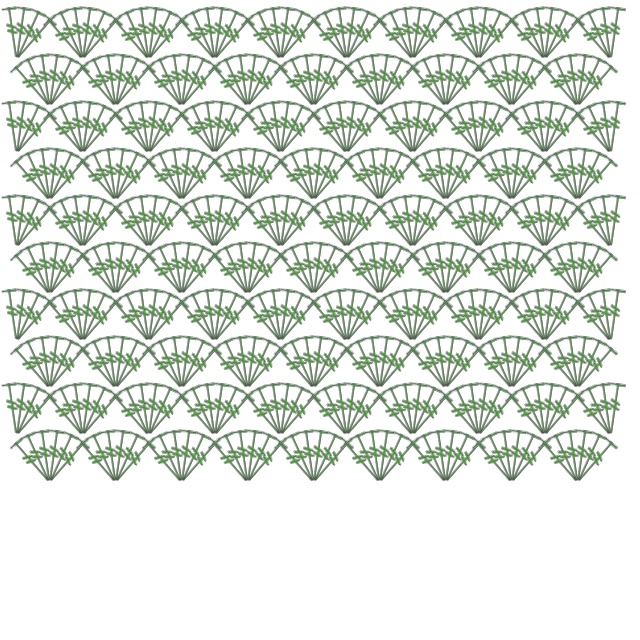fan: (10, 13, 59, 65), (41, 13, 90, 65), (76, 13, 125, 65), (107, 13, 156, 65), (142, 13, 191, 65), (173, 13, 222, 65), (208, 13, 257, 65), (239, 13, 288, 65), (274, 13, 323, 65), (305, 13, 354, 65), (340, 13, 389, 65), (371, 13, 420, 65), (406, 13, 455, 65), (437, 13, 486, 65), (472, 13, 521, 65), (503, 13, 552, 65), (538, 13, 587, 65), (569, 13, 618, 65), (8, 60, 57, 112), (43, 60, 92, 112), (74, 60, 123, 112), (109, 60, 158, 112), (140, 60, 189, 112), (175, 60, 224, 112), (206, 60, 255, 112), (241, 60, 290, 112), (272, 60, 321, 112), (307, 60, 356, 112), (338, 60, 387, 112), (373, 60, 422, 112), (404, 60, 453, 112), (439, 60, 488, 112), (470, 60, 519, 112), (505, 60, 554, 112), (536, 60, 585, 112), (571, 60, 620, 112), (10, 107, 59, 159), (41, 107, 90, 159), (76, 107, 125, 159), (107, 107, 156, 159), (142, 107, 191, 159), (173, 107, 222, 159), (208, 107, 257, 159), (239, 107, 288, 159), (274, 107, 323, 159), (305, 107, 354, 159), (340, 107, 389, 159), (371, 107, 420, 159), (406, 107, 455, 159), (437, 107, 486, 159), (472, 107, 521, 159), (503, 107, 552, 159), (538, 107, 587, 159), (569, 107, 618, 159), (8, 154, 57, 206), (43, 154, 92, 206), (74, 154, 123, 206), (109, 154, 158, 206), (140, 154, 189, 206), (175, 154, 224, 206), (206, 154, 255, 206), (241, 154, 290, 206), (272, 154, 321, 206), (307, 154, 356, 206), (338, 154, 387, 206), (373, 154, 422, 206), (404, 154, 453, 206), (439, 154, 488, 206), (470, 154, 519, 206), (505, 154, 554, 206), (536, 154, 585, 206), (571, 154, 620, 206), (10, 201, 59, 253), (41, 201, 90, 253), (76, 201, 125, 253), (107, 201, 156, 253), (142, 201, 191, 253), (173, 201, 222, 253), (208, 201, 257, 253), (239, 201, 288, 253), (274, 201, 323, 253), (305, 201, 354, 253), (340, 201, 389, 253), (371, 201, 420, 253), (406, 201, 455, 253), (437, 201, 486, 253), (472, 201, 521, 253), (503, 201, 552, 253), (538, 201, 587, 253), (569, 201, 618, 253), (8, 248, 57, 300), (43, 248, 92, 300), (74, 248, 123, 300), (109, 248, 158, 300), (140, 248, 189, 300), (175, 248, 224, 300), (206, 248, 255, 300), (241, 248, 290, 300), (272, 248, 321, 300), (307, 248, 356, 300), (338, 248, 387, 300), (373, 248, 422, 300), (404, 248, 453, 300), (439, 248, 488, 300), (470, 248, 519, 300), (505, 248, 554, 300), (536, 248, 585, 300), (571, 248, 620, 300), (10, 295, 59, 347), (41, 295, 90, 347), (76, 295, 125, 347), (107, 295, 156, 347), (142, 295, 191, 347), (173, 295, 222, 347), (208, 295, 257, 347), (239, 295, 288, 347), (274, 295, 323, 347), (305, 295, 354, 347), (340, 295, 389, 347), (371, 295, 420, 347), (406, 295, 455, 347), (437, 295, 486, 347), (472, 295, 521, 347), (503, 295, 552, 347), (538, 295, 587, 347), (569, 295, 618, 347), (8, 342, 57, 394), (43, 342, 92, 394), (74, 342, 123, 394), (109, 342, 158, 394), (140, 342, 189, 394), (175, 342, 224, 394), (206, 342, 255, 394), (241, 342, 290, 394), (272, 342, 321, 394), (307, 342, 356, 394), (338, 342, 387, 394), (373, 342, 422, 394), (404, 342, 453, 394), (439, 342, 488, 394), (470, 342, 519, 394), (505, 342, 554, 394), (536, 342, 585, 394), (571, 342, 620, 394), (10, 389, 59, 441), (41, 389, 90, 441), (76, 389, 125, 441), (107, 389, 156, 441), (142, 389, 191, 441), (173, 389, 222, 441), (208, 389, 257, 441), (239, 389, 288, 441), (274, 389, 323, 441), (305, 389, 354, 441), (340, 389, 389, 441), (371, 389, 420, 441), (406, 389, 455, 441), (437, 389, 486, 441), (472, 389, 521, 441), (503, 389, 552, 441), (538, 389, 587, 441), (569, 389, 618, 441), (8, 436, 57, 488), (43, 436, 92, 488), (74, 436, 123, 488), (109, 436, 158, 488), (140, 436, 189, 488), (175, 436, 224, 488), (206, 436, 255, 488), (241, 436, 290, 488), (272, 436, 321, 488), (307, 436, 356, 488), (338, 436, 387, 488), (373, 436, 422, 488), (404, 436, 453, 488), (439, 436, 488, 488), (470, 436, 519, 488), (505, 436, 554, 488), (536, 436, 585, 488), (571, 436, 620, 488), (9, 7, 47, 63), (53, 7, 91, 63), (75, 7, 113, 63), (119, 7, 157, 63), (141, 7, 179, 63), (185, 7, 223, 63), (207, 7, 245, 63), (251, 7, 289, 63), (273, 7, 311, 63), (317, 7, 355, 63), (339, 7, 377, 63), (383, 7, 421, 63), (405, 7, 443, 63), (449, 7, 487, 63), (471, 7, 509, 63), (515, 7, 553, 63), (537, 7, 575, 63), (581, 7, 619, 63), (20, 54, 58, 110), (42, 54, 80, 110), (86, 54, 124, 110), (108, 54, 146, 110), (152, 54, 190, 110), (174, 54, 212, 110), (218, 54, 256, 110), (240, 54, 278, 110), (284, 54, 322, 110), (306, 54, 344, 110), (350, 54, 388, 110), (372, 54, 410, 110), (416, 54, 454, 110), (438, 54, 476, 110), (482, 54, 520, 110), (504, 54, 542, 110), (548, 54, 586, 110), (570, 54, 608, 110), (9, 101, 47, 157), (53, 101, 91, 157), (75, 101, 113, 157), (119, 101, 157, 157), (141, 101, 179, 157), (185, 101, 223, 157), (207, 101, 245, 157), (251, 101, 289, 157), (273, 101, 311, 157), (317, 101, 355, 157), (339, 101, 377, 157), (383, 101, 421, 157), (405, 101, 443, 157), (449, 101, 487, 157), (471, 101, 509, 157), (515, 101, 553, 157), (537, 101, 575, 157), (581, 101, 619, 157), (20, 148, 58, 204), (42, 148, 80, 204), (86, 148, 124, 204), (108, 148, 146, 204), (152, 148, 190, 204), (174, 148, 212, 204), (218, 148, 256, 204), (240, 148, 278, 204), (284, 148, 322, 204), (306, 148, 344, 204), (350, 148, 388, 204), (372, 148, 410, 204), (416, 148, 454, 204), (438, 148, 476, 204), (482, 148, 520, 204), (504, 148, 542, 204), (548, 148, 586, 204), (570, 148, 608, 204), (9, 195, 47, 251), (53, 195, 91, 251), (75, 195, 113, 251), (119, 195, 157, 251), (141, 195, 179, 251), (185, 195, 223, 251), (207, 195, 245, 251), (251, 195, 289, 251), (273, 195, 311, 251), (317, 195, 355, 251), (339, 195, 377, 251), (383, 195, 421, 251), (405, 195, 443, 251), (449, 195, 487, 251), (471, 195, 509, 251), (515, 195, 553, 251), (537, 195, 575, 251), (581, 195, 619, 251), (20, 242, 58, 298), (42, 242, 80, 298), (86, 242, 124, 298), (108, 242, 146, 298), (152, 242, 190, 298), (174, 242, 212, 298), (218, 242, 256, 298), (240, 242, 278, 298), (284, 242, 322, 298), (306, 242, 344, 298), (350, 242, 388, 298), (372, 242, 410, 298), (416, 242, 454, 298), (438, 242, 476, 298), (482, 242, 520, 298), (504, 242, 542, 298), (548, 242, 586, 298), (570, 242, 608, 298), (9, 289, 47, 345), (53, 289, 91, 345), (75, 289, 113, 345), (119, 289, 157, 345), (141, 289, 179, 345), (185, 289, 223, 345), (207, 289, 245, 345), (251, 289, 289, 345), (273, 289, 311, 345), (317, 289, 355, 345), (339, 289, 377, 345), (383, 289, 421, 345), (405, 289, 443, 345), (449, 289, 487, 345), (471, 289, 509, 345), (515, 289, 553, 345), (537, 289, 575, 345), (581, 289, 619, 345), (20, 336, 58, 392), (42, 336, 80, 392), (86, 336, 124, 392), (108, 336, 146, 392), (152, 336, 190, 392), (174, 336, 212, 392), (218, 336, 256, 392), (240, 336, 278, 392), (284, 336, 322, 392), (306, 336, 344, 392), (350, 336, 388, 392), (372, 336, 410, 392), (416, 336, 454, 392), (438, 336, 476, 392), (482, 336, 520, 392), (504, 336, 542, 392), (548, 336, 586, 392), (570, 336, 608, 392), (9, 383, 47, 439), (53, 383, 91, 439), (75, 383, 113, 439), (119, 383, 157, 439), (141, 383, 179, 439), (185, 383, 223, 439), (207, 383, 245, 439), (251, 383, 289, 439), (273, 383, 311, 439), (317, 383, 355, 439), (339, 383, 377, 439), (383, 383, 421, 439), (405, 383, 443, 439), (449, 383, 487, 439), (471, 383, 509, 439), (515, 383, 553, 439), (537, 383, 575, 439), (581, 383, 619, 439), (20, 430, 58, 486), (42, 430, 80, 486), (86, 430, 124, 486), (108, 430, 146, 486), (152, 430, 190, 486), (174, 430, 212, 486), (218, 430, 256, 486), (240, 430, 278, 486), (284, 430, 322, 486), (306, 430, 344, 486), (350, 430, 388, 486), (372, 430, 410, 486), (416, 430, 454, 486), (438, 430, 476, 486), (482, 430, 520, 486), (504, 430, 542, 486), (548, 430, 586, 486), (570, 430, 608, 486), (1, 5, 26, 60), (8, 5, 33, 60), (67, 5, 92, 60), (74, 5, 99, 60), (133, 5, 158, 60), (140, 5, 165, 60), (199, 5, 224, 60), (206, 5, 231, 60), (265, 5, 290, 60), (272, 5, 297, 60), (331, 5, 356, 60), (338, 5, 363, 60), (397, 5, 422, 60), (404, 5, 429, 60), (463, 5, 488, 60), (470, 5, 495, 60), (529, 5, 554, 60), (536, 5, 561, 60), (595, 5, 620, 60), (602, 5, 627, 60), (34, 52, 59, 107), (41, 52, 66, 107), (100, 52, 125, 107), (107, 52, 132, 107), (166, 52, 191, 107), (173, 52, 198, 107), (232, 52, 257, 107), (239, 52, 264, 107), (298, 52, 323, 107), (305, 52, 330, 107), (364, 52, 389, 107), (371, 52, 396, 107), (430, 52, 455, 107), (437, 52, 462, 107), (496, 52, 521, 107), (503, 52, 528, 107), (562, 52, 587, 107), (569, 52, 594, 107), (1, 99, 26, 154), (8, 99, 33, 154), (67, 99, 92, 154), (74, 99, 99, 154), (133, 99, 158, 154), (140, 99, 165, 154), (199, 99, 224, 154), (206, 99, 231, 154), (265, 99, 290, 154), (272, 99, 297, 154), (331, 99, 356, 154), (338, 99, 363, 154), (397, 99, 422, 154), (404, 99, 429, 154), (463, 99, 488, 154), (470, 99, 495, 154), (529, 99, 554, 154), (536, 99, 561, 154), (595, 99, 620, 154), (602, 99, 627, 154), (34, 146, 59, 201), (41, 146, 66, 201), (100, 146, 125, 201), (107, 146, 132, 201), (166, 146, 191, 201), (173, 146, 198, 201), (232, 146, 257, 201), (239, 146, 264, 201), (298, 146, 323, 201), (305, 146, 330, 201), (364, 146, 389, 201), (371, 146, 396, 201), (430, 146, 455, 201), (437, 146, 462, 201), (496, 146, 521, 201), (503, 146, 528, 201), (562, 146, 587, 201), (569, 146, 594, 201), (1, 193, 26, 248), (8, 193, 33, 248), (67, 193, 92, 248), (74, 193, 99, 248), (133, 193, 158, 248), (140, 193, 165, 248), (199, 193, 224, 248), (206, 193, 231, 248), (265, 193, 290, 248), (272, 193, 297, 248), (331, 193, 356, 248), (338, 193, 363, 248), (397, 193, 422, 248), (404, 193, 429, 248), (463, 193, 488, 248), (470, 193, 495, 248), (529, 193, 554, 248), (536, 193, 561, 248), (595, 193, 620, 248), (602, 193, 627, 248), (34, 240, 59, 295), (41, 240, 66, 295), (100, 240, 125, 295), (107, 240, 132, 295), (166, 240, 191, 295), (173, 240, 198, 295), (232, 240, 257, 295), (239, 240, 264, 295), (298, 240, 323, 295), (305, 240, 330, 295), (364, 240, 389, 295), (371, 240, 396, 295), (430, 240, 455, 295), (437, 240, 462, 295), (496, 240, 521, 295), (503, 240, 528, 295), (562, 240, 587, 295), (569, 240, 594, 295), (1, 287, 26, 342), (8, 287, 33, 342), (67, 287, 92, 342), (74, 287, 99, 342), (133, 287, 158, 342), (140, 287, 165, 342), (199, 287, 224, 342), (206, 287, 231, 342), (265, 287, 290, 342), (272, 287, 297, 342), (331, 287, 356, 342), (338, 287, 363, 342), (397, 287, 422, 342), (404, 287, 429, 342), (463, 287, 488, 342), (470, 287, 495, 342), (529, 287, 554, 342), (536, 287, 561, 342), (595, 287, 620, 342), (602, 287, 627, 342), (34, 334, 59, 389), (41, 334, 66, 389), (100, 334, 125, 389), (107, 334, 132, 389), (166, 334, 191, 389), (173, 334, 198, 389), (232, 334, 257, 389), (239, 334, 264, 389), (298, 334, 323, 389), (305, 334, 330, 389), (364, 334, 389, 389), (371, 334, 396, 389), (430, 334, 455, 389), (437, 334, 462, 389), (496, 334, 521, 389), (503, 334, 528, 389), (562, 334, 587, 389), (569, 334, 594, 389), (1, 381, 26, 436), (8, 381, 33, 436), (67, 381, 92, 436), (74, 381, 99, 436), (133, 381, 158, 436), (140, 381, 165, 436), (199, 381, 224, 436), (206, 381, 231, 436), (265, 381, 290, 436), (272, 381, 297, 436), (331, 381, 356, 436), (338, 381, 363, 436), (397, 381, 422, 436), (404, 381, 429, 436), (463, 381, 488, 436), (470, 381, 495, 436), (529, 381, 554, 436), (536, 381, 561, 436), (595, 381, 620, 436), (602, 381, 627, 436), (34, 428, 59, 483), (41, 428, 66, 483), (100, 428, 125, 483), (107, 428, 132, 483), (166, 428, 191, 483), (173, 428, 198, 483), (232, 428, 257, 483), (239, 428, 264, 483), (298, 428, 323, 483), (305, 428, 330, 483), (364, 428, 389, 483), (371, 428, 396, 483), (430, 428, 455, 483), (437, 428, 462, 483), (496, 428, 521, 483), (503, 428, 528, 483), (562, 428, 587, 483), (569, 428, 594, 483)
